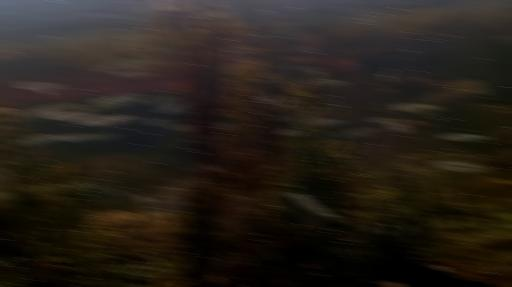Fish: (133, 180, 188, 213), (292, 193, 337, 218), (76, 177, 119, 196), (76, 114, 139, 126), (94, 93, 145, 106), (31, 102, 80, 115), (17, 82, 66, 95), (83, 100, 138, 111), (96, 59, 141, 72), (322, 58, 361, 73), (431, 161, 488, 171), (22, 134, 68, 145), (474, 176, 511, 189), (337, 127, 380, 138), (392, 103, 441, 112), (289, 42, 322, 55), (45, 111, 92, 120), (284, 55, 323, 65), (438, 134, 491, 141), (56, 133, 101, 141), (156, 102, 187, 113), (236, 45, 263, 57), (147, 95, 176, 106), (100, 93, 145, 100), (123, 61, 162, 69), (114, 71, 155, 78), (389, 120, 410, 133), (296, 33, 321, 43), (89, 132, 118, 140), (289, 64, 322, 71), (170, 80, 190, 91), (315, 118, 344, 125), (277, 129, 304, 136), (258, 95, 279, 104), (146, 118, 169, 126), (169, 124, 192, 132), (320, 79, 347, 85), (369, 119, 398, 124), (171, 125, 190, 132), (223, 66, 236, 75), (217, 123, 232, 130)
